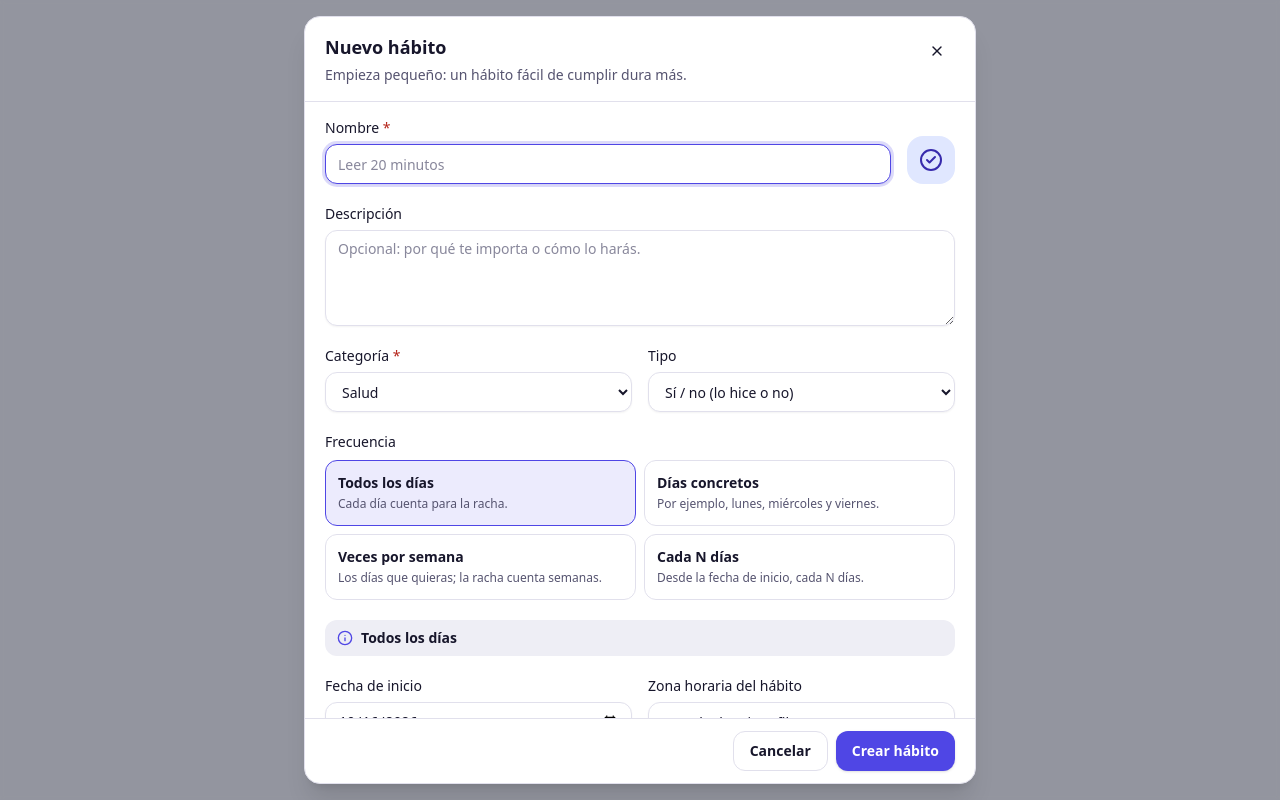
HabitFormDialog › requires a unit for quantity habits
This screenshot has width=1280, height=800.
Type "Leer" into the field labelled "Nombre *" at [608, 164], box [325,144,891,184]
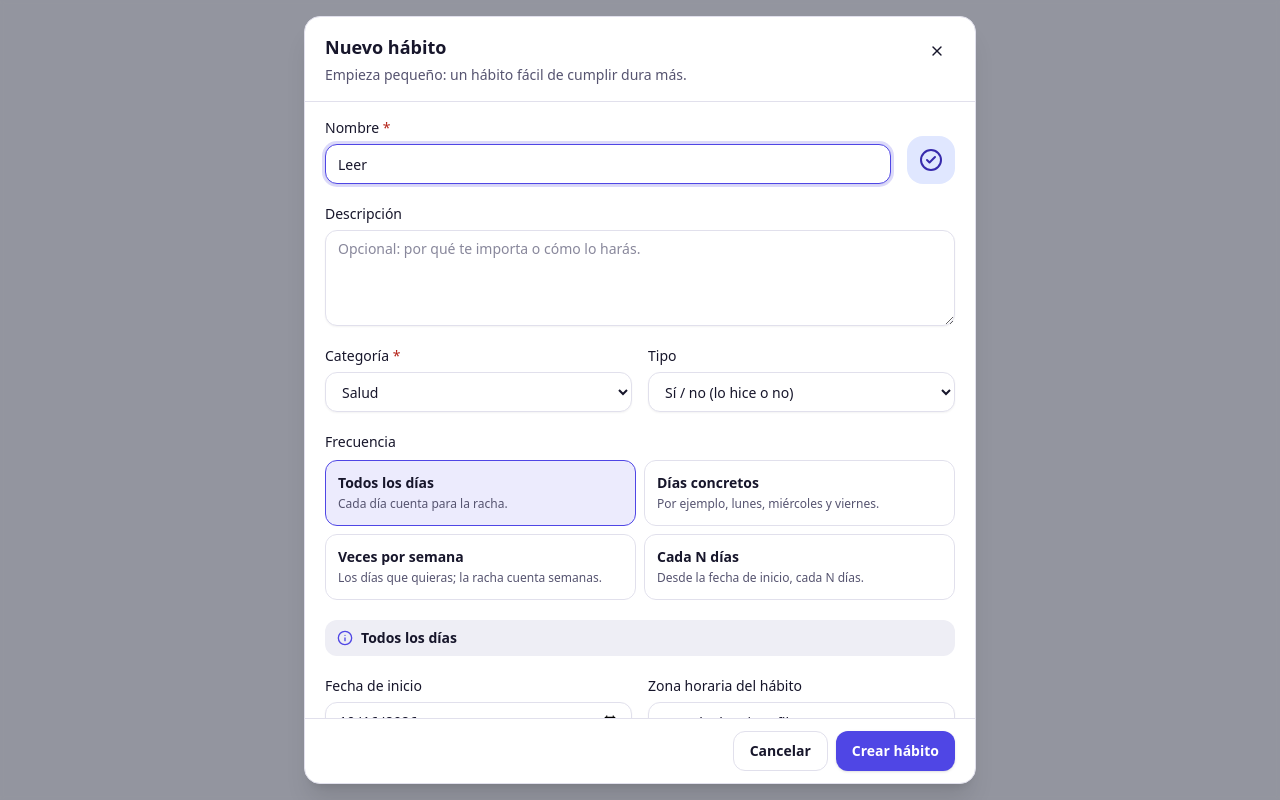
Select "Cantidad (minutos, páginas, litros…)" in the dropdown labelled "Tipo" at [802, 392], box [648,372,955,412]
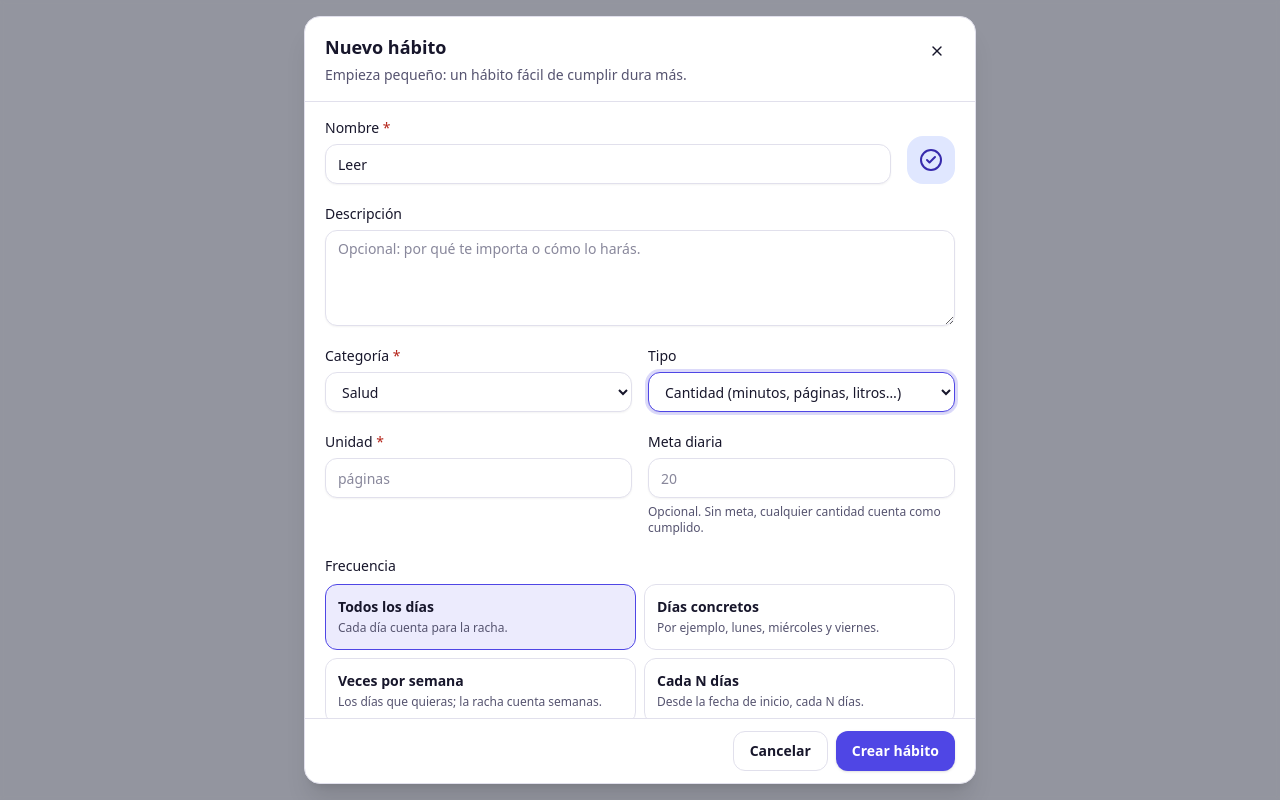
Click the button "Crear hábito" at [895, 751], box [836,731,955,771]
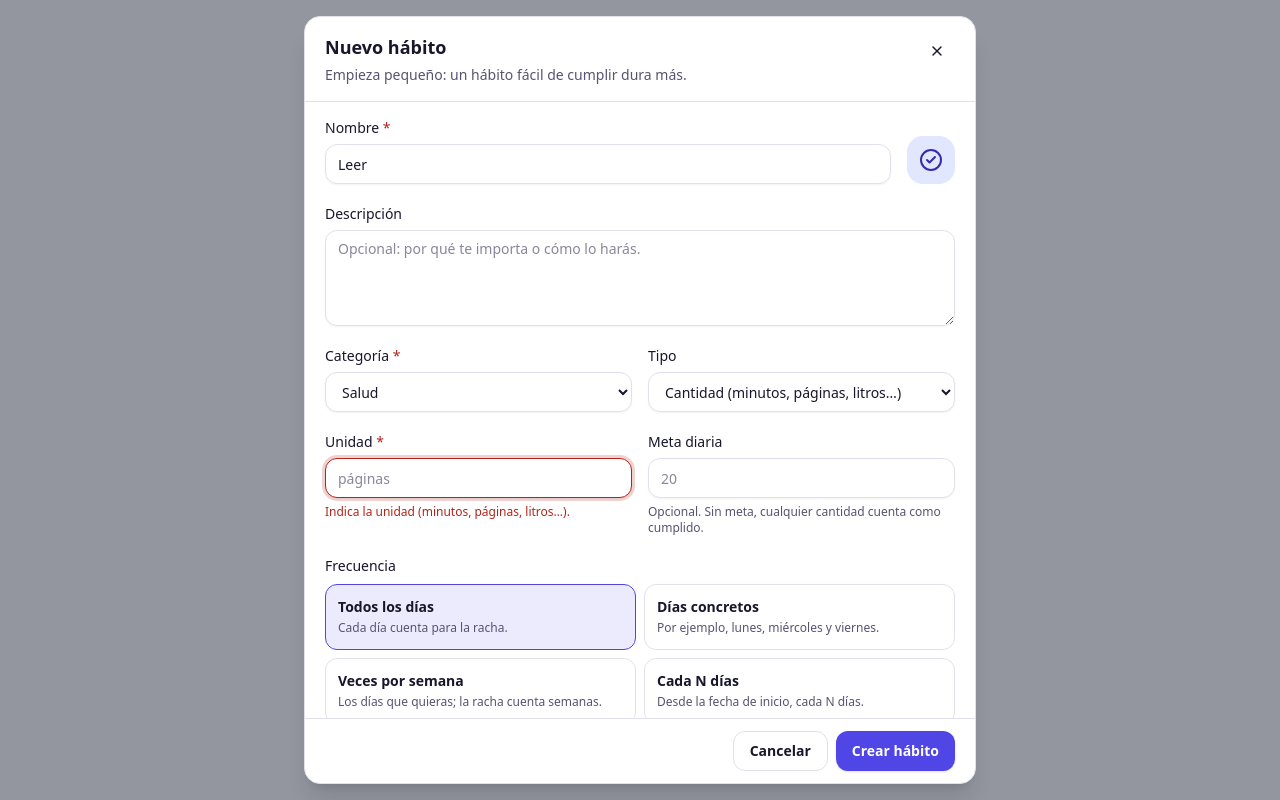
Expected: the text "Indica la unidad (minutos, páginas, litros…)." is shown, [325,503,570,520]
